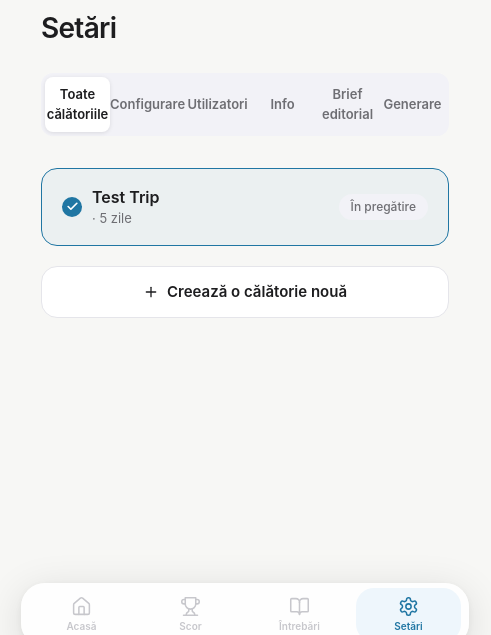
Test: R9: Generare tab -- no brief / brief summary / state badge › shows the brief used (difficulty/style/theme) when one exists
Click the button "Generare". click: click(412, 104)
box: [380,77,445,132]
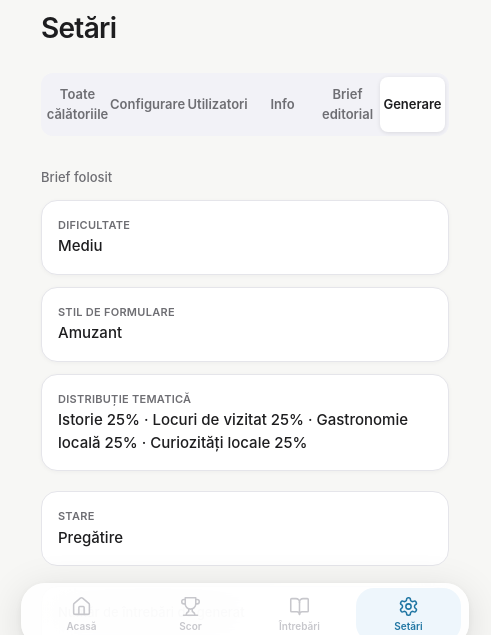
Expected: the text "Mediu" is shown, [58,236,103,255]
Expected: the text "Amuzant" is shown, [58,323,122,342]
